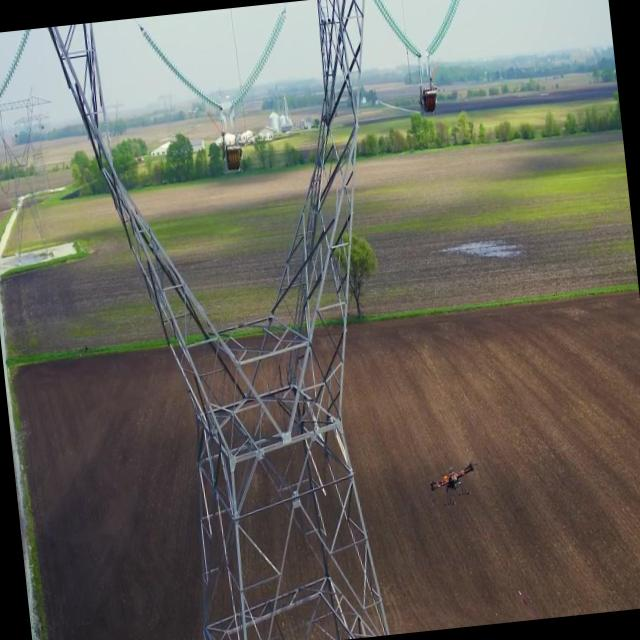drone: (427, 458, 481, 512)
